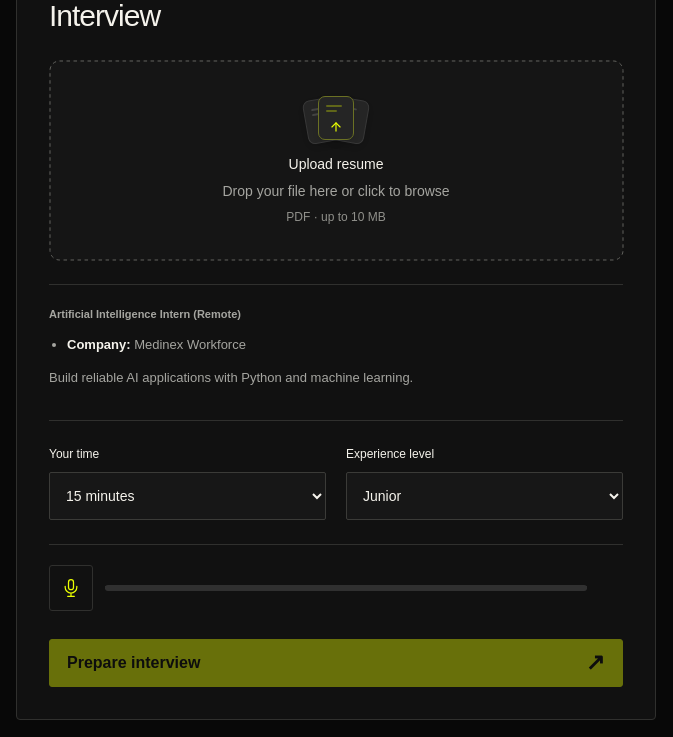
it: stops a pending check and releases microphone access if permission resolves later
(page scrolled)
Click the button named "Check microphone" at x=71, y=588, box [49,565,93,611]
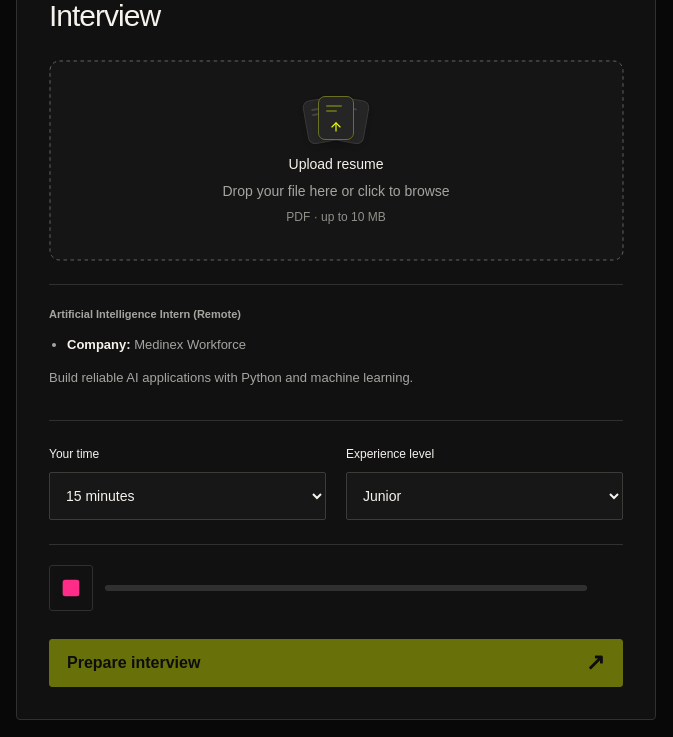
Click the button named "Stop microphone check" at x=71, y=588, box [49,565,93,611]
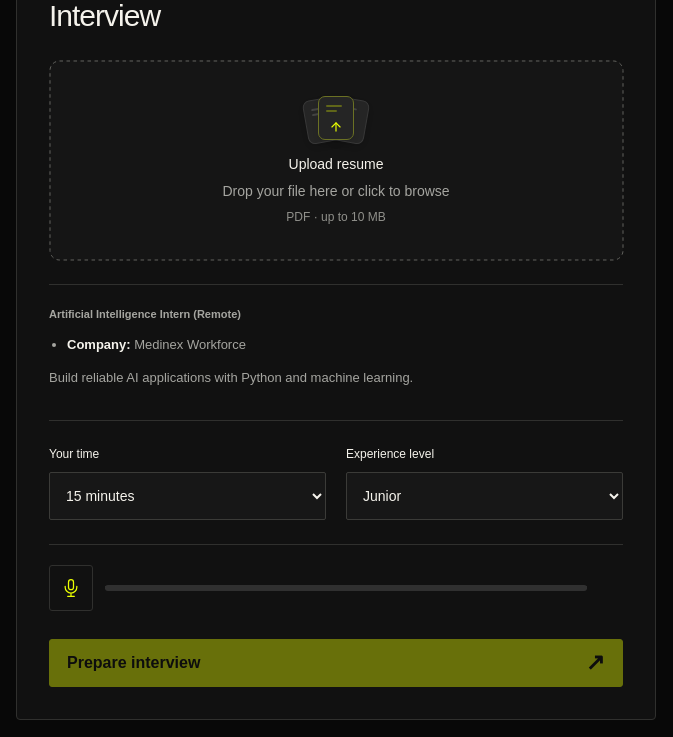
Expected: the button named "Check microphone" is shown, [49,565,93,611]
